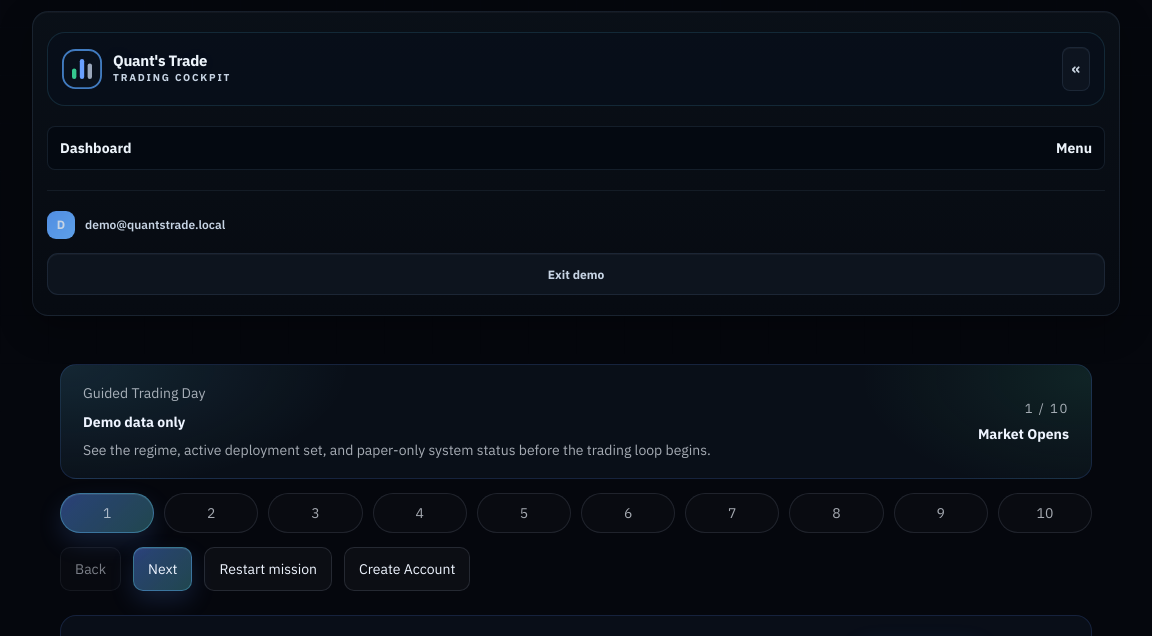
Test: guided trading day demo › advances through mission navigation
The image size is (1152, 636).
Click the button "Next" at coordinates (163, 569), box [133, 547, 192, 591]
(page scrolled)
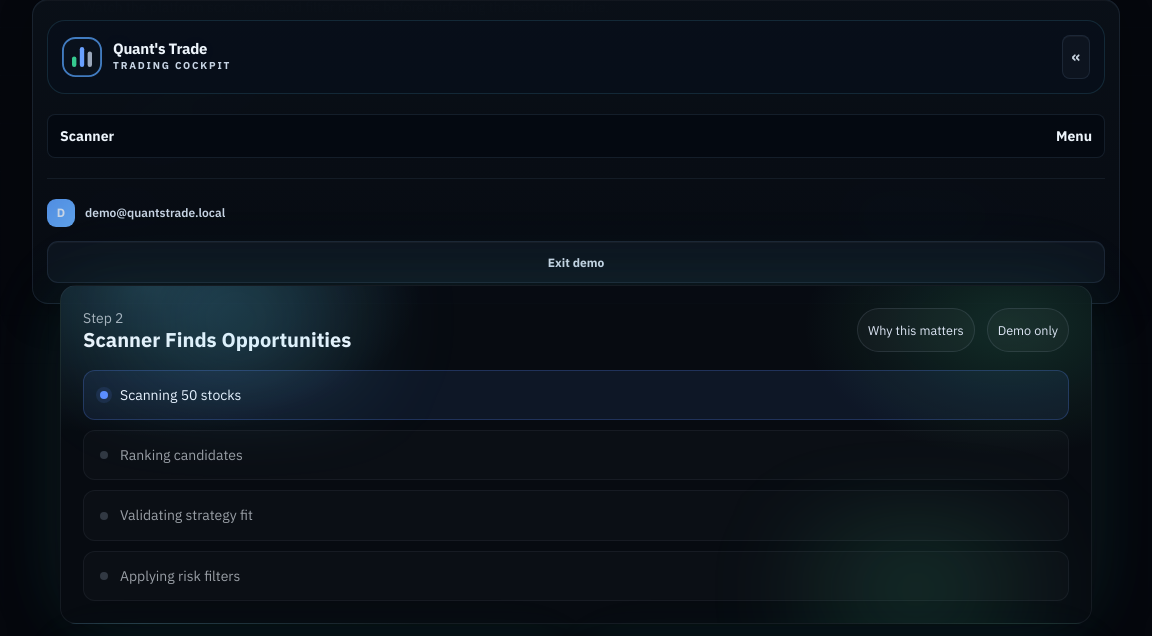
Expected: the heading "Scanner Finds Opportunities" is shown, [83, 328, 351, 352]
